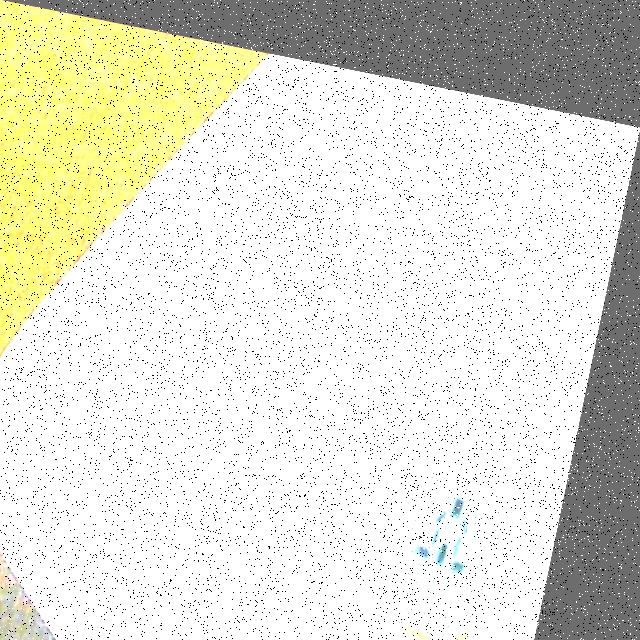adapter: (394, 448, 525, 626)
